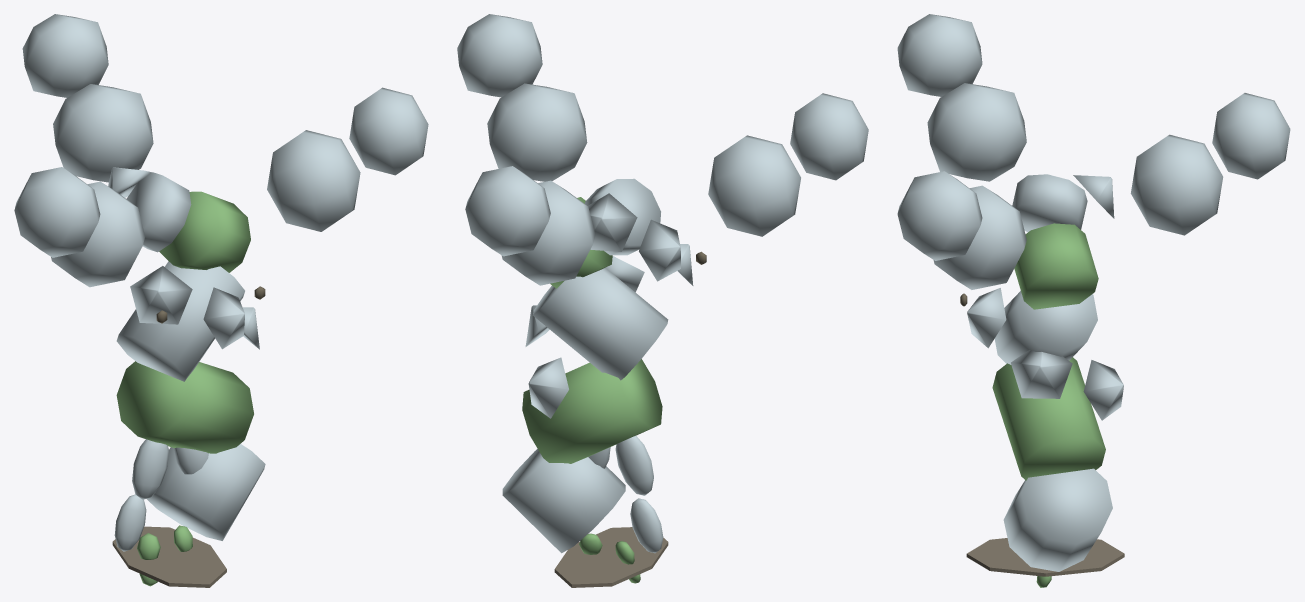
The model's file is frost_ivy_idle.fbx.
The picture shows the model from 3 angles, left to right: view 1: azimuth 30°, elevation 25°; view 2: azimuth 150°, elevation 25°; view 3: azimuth 270°, elevation 25°; orthographic projection.
Parts seen in each view (by area): view 1: Body_frost_ivy, Shadow_frost_ivy, Leg_L_frost_ivy, Leg_R_frost_ivy; view 2: Body_frost_ivy, Shadow_frost_ivy, Leg_L_frost_ivy, Leg_R_frost_ivy; view 3: Body_frost_ivy, Shadow_frost_ivy.
Boxes of the visible parts, x1,y1,x2,y2 form: Body_frost_ivy: (14, 14, 428, 540); Shadow_frost_ivy: (112, 526, 226, 587); Leg_L_frost_ivy: (114, 439, 168, 586); Leg_R_frost_ivy: (174, 447, 208, 551); Body_frost_ivy: (457, 14, 868, 553); Shadow_frost_ivy: (554, 527, 668, 587); Leg_L_frost_ivy: (615, 435, 663, 583); Leg_R_frost_ivy: (579, 447, 610, 554); Body_frost_ivy: (897, 14, 1290, 571); Shadow_frost_ivy: (966, 538, 1124, 576).
Size of the model in its own units: 144 by 166 by 123.
